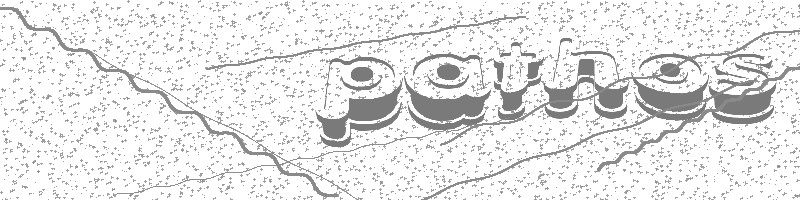a: (403, 50, 489, 129)
h: (542, 34, 631, 122)
o: (628, 49, 709, 124)
p: (312, 52, 404, 149)
s: (708, 47, 778, 126)
t: (489, 39, 545, 122)
